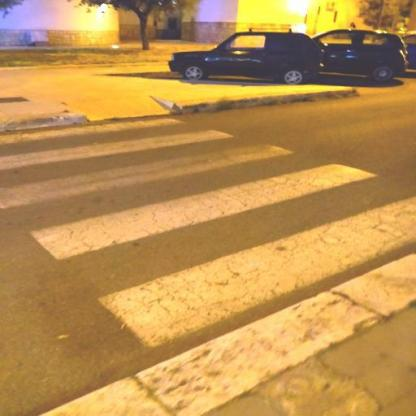crosswalk: (2, 160, 416, 354)
